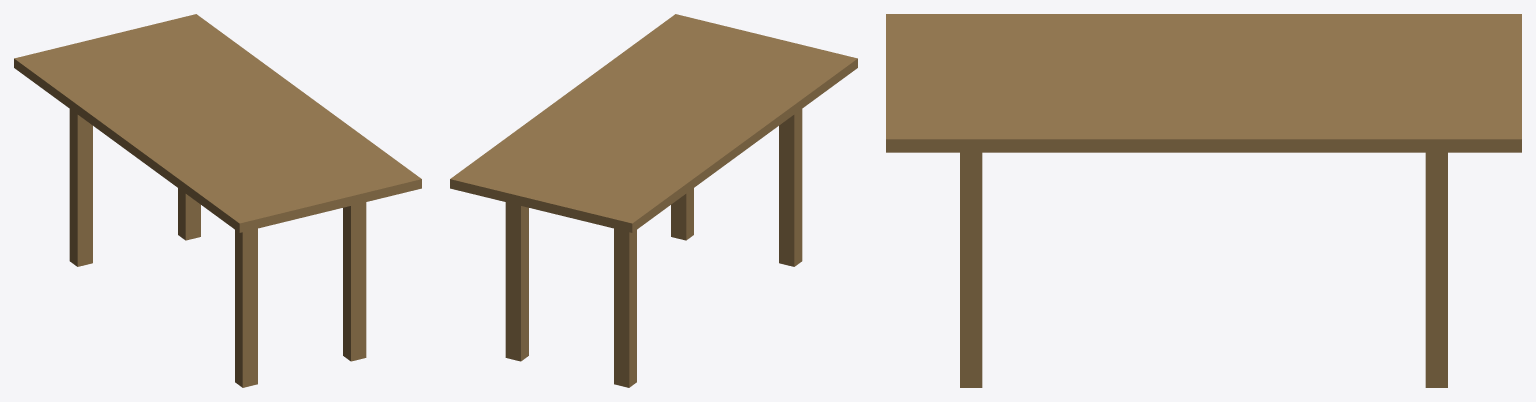
The model's file is Craft_Table.fbx.
3 renders of one model, left to right at view 1: azimuth 30°, elevation 25°; view 2: azimuth 150°, elevation 25°; view 3: azimuth 270°, elevation 25°, orthographic. The views are drawn at different scales.
Visible parts, largest first — view 1: Cube; view 2: Cube; view 3: Cube.
Part boxes in pixels (x1=…): Cube: x1=14, y1=14, x2=421, y2=387; Cube: x1=450, y1=14, x2=857, y2=387; Cube: x1=886, y1=14, x2=1521, y2=387.
Size of the model in its own units: 70 by 70 by 150.
